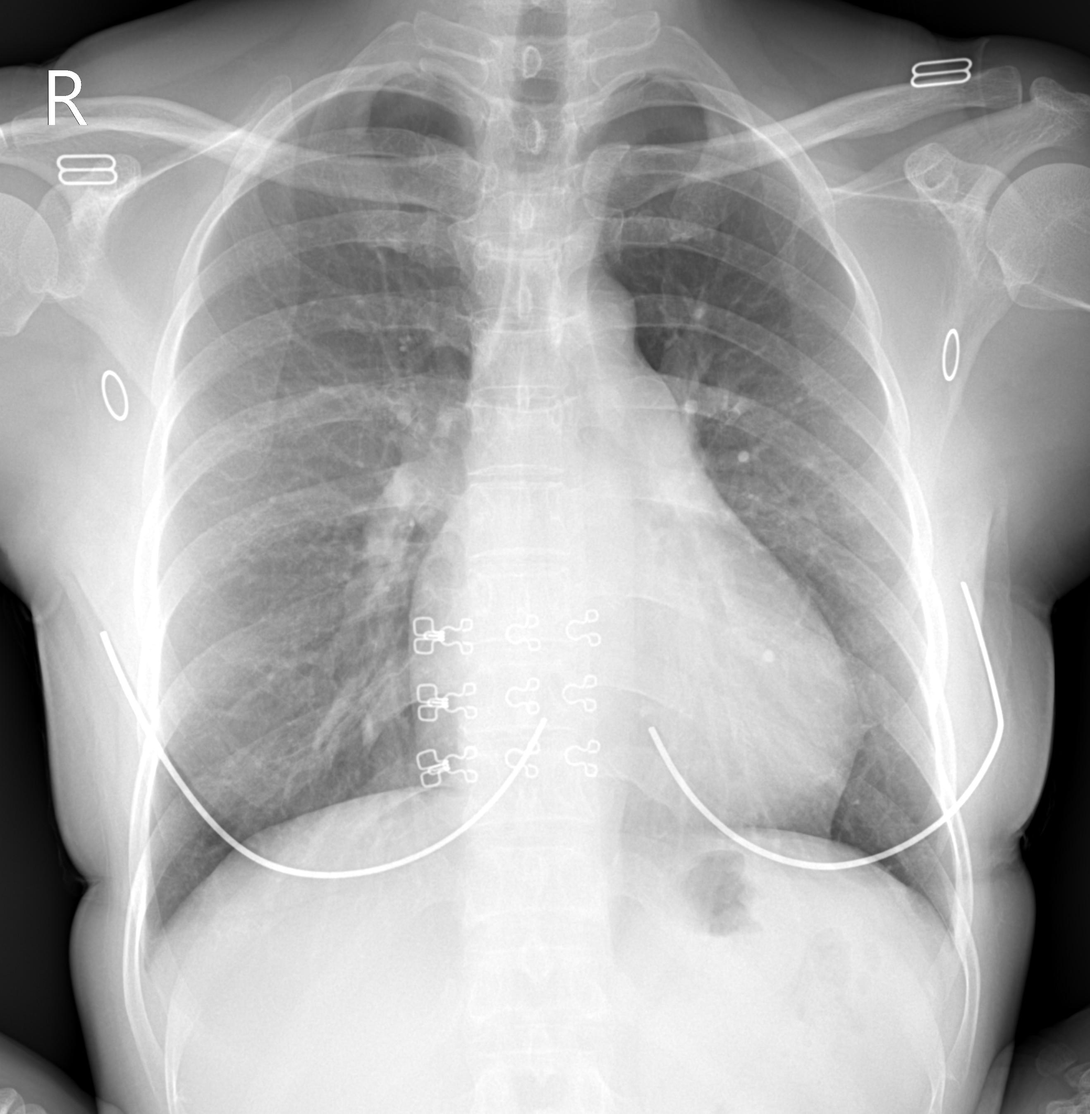Cardiomegaly: (388, 621, 877, 846)
Pleural thickening: (600, 69, 698, 81)
